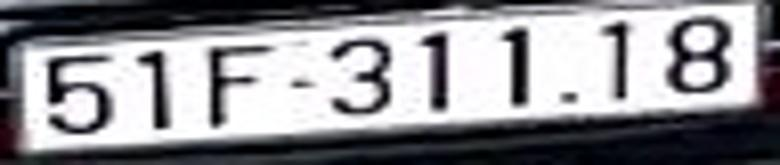-: (289, 78, 317, 90)
.: (556, 89, 580, 106)
1: (131, 49, 175, 135), (418, 28, 452, 116), (501, 22, 532, 111), (601, 18, 629, 101)
3: (326, 37, 395, 118)
5: (41, 49, 115, 140)
8: (662, 12, 734, 97)
F: (204, 42, 276, 128)
